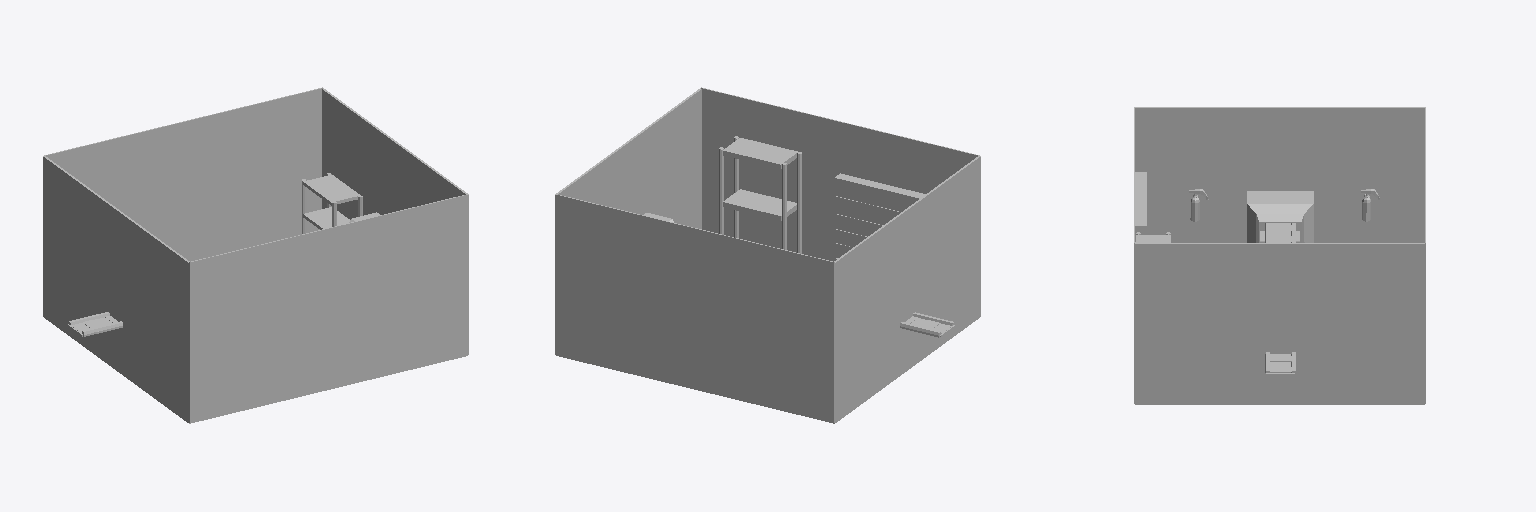
The model's file is room.obj.
The picture shows the model from 3 angles: view 1: azimuth 30°, elevation 25°; view 2: azimuth 150°, elevation 25°; view 3: azimuth 270°, elevation 25°; orthographic projection.
Visible parts, largest first — view 1: walls RoomConveyor pCube12, pCube15 walls RoomConveyor, walls RoomConveyor pCube10, walls RoomConveyor pCube7, Shelf2 pCube1, pCube2 Shelf2; view 2: pCube15 walls RoomConveyor, walls RoomConveyor pCube10, walls RoomConveyor pCube12, walls RoomConveyor pCube7, pCube1 Gate, Shelf1 pCube1, Shelf1 pCube2; view 3: walls RoomConveyor pCube7, walls RoomConveyor pCube10, RoomConveyor pCube11, RoomConveyor updatedBelt, pCube1 Gate.
Part boxes in pixels (x1,y1,x2,y2): walls RoomConveyor pCube12: (189,194,468,422); pCube15 walls RoomConveyor: (44,87,322,261); walls RoomConveyor pCube10: (43,156,189,422); walls RoomConveyor pCube7: (322,88,467,219); Shelf2 pCube1: (303,175,359,205); pCube2 Shelf2: (303,207,349,229); pCube15 walls RoomConveyor: (555,194,834,422); walls RoomConveyor pCube10: (834,156,980,422); walls RoomConveyor pCube12: (701,87,979,261); walls RoomConveyor pCube7: (556,88,701,228); pCube1 Gate: (834,173,925,260); Shelf1 pCube1: (723,138,797,169); Shelf1 pCube2: (723,189,796,220); walls RoomConveyor pCube7: (1135,243,1425,403); walls RoomConveyor pCube10: (1135,107,1424,242); RoomConveyor pCube11: (1247,191,1313,242); RoomConveyor updatedBelt: (1265,223,1295,375); pCube1 Gate: (1135,172,1146,242).
Bounding box in the file's own units: 521 × 223 × 365.